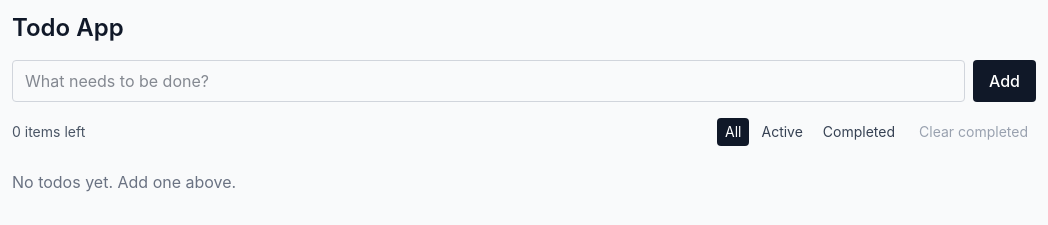
TodoPage › deletes a todo
The width and height of the screenshot is (1048, 225).
Type "Buy milk" into the field named "New todo" at (488, 81), box [12,60,965,102]
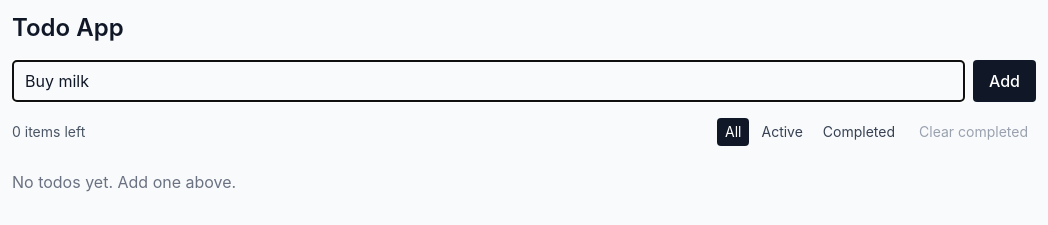
Click the button "Add" at (1004, 81), box [973,60,1036,102]
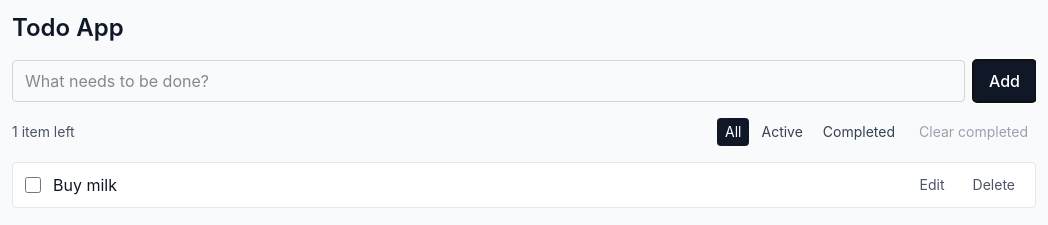
Click the button named "Delete \"Buy milk\"" at (994, 185), box [965,171,1023,199]
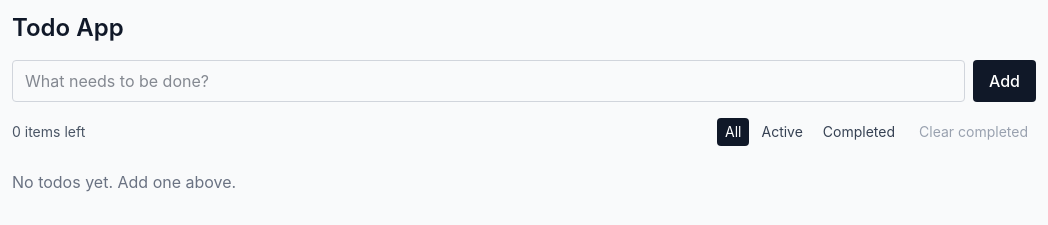
Result: the text "Buy milk" is gone
Result: the text "No todos yet. Add one above." is shown at [12,172,236,192]
